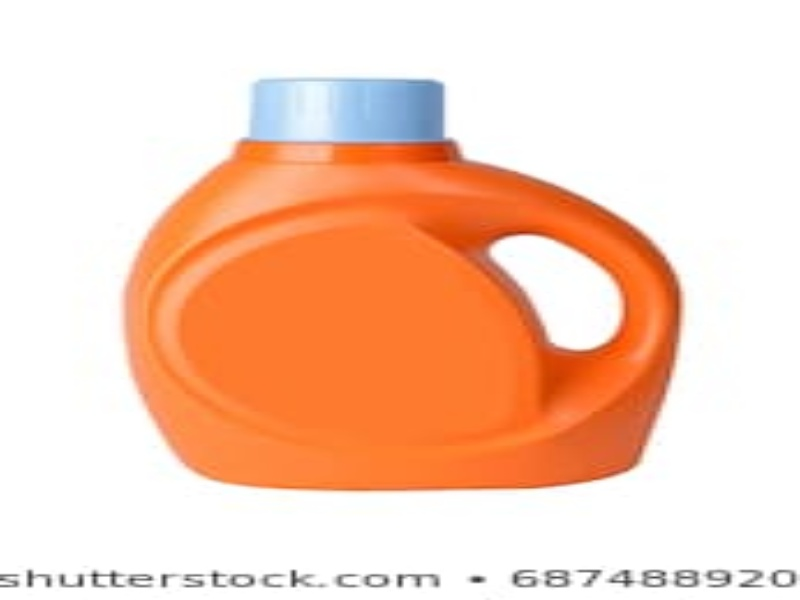detergent-bottle: (118, 69, 690, 499)
